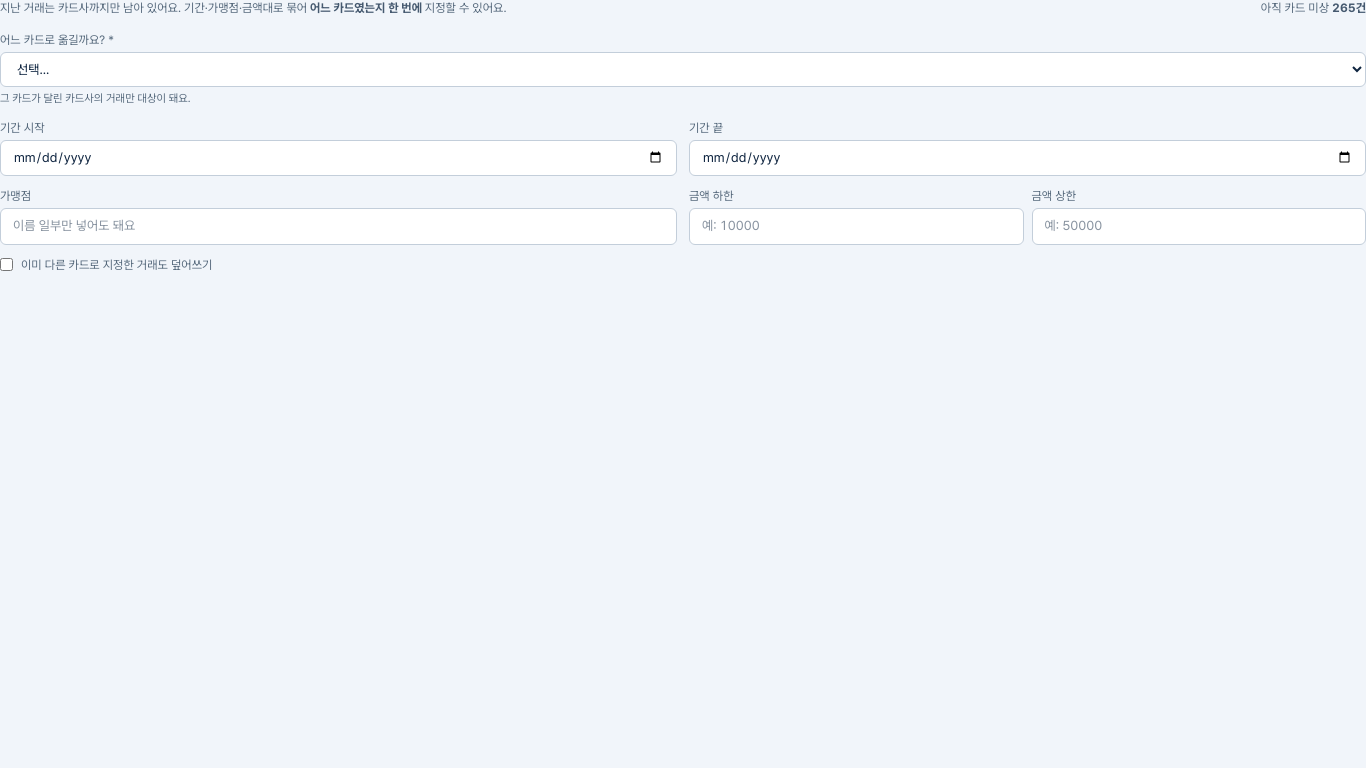
it: E. 확인 없이 실행되지 않는다 › E-3. 확인 창에 건수와 카드 이름이 나온다
The width and height of the screenshot is (1366, 768).
Select "하나 A · 하나카드" in the dropdown labelled "어느 카드로 옮길까요? *" at {"x": 683, "y": 70}, box [0,52,1365,87]
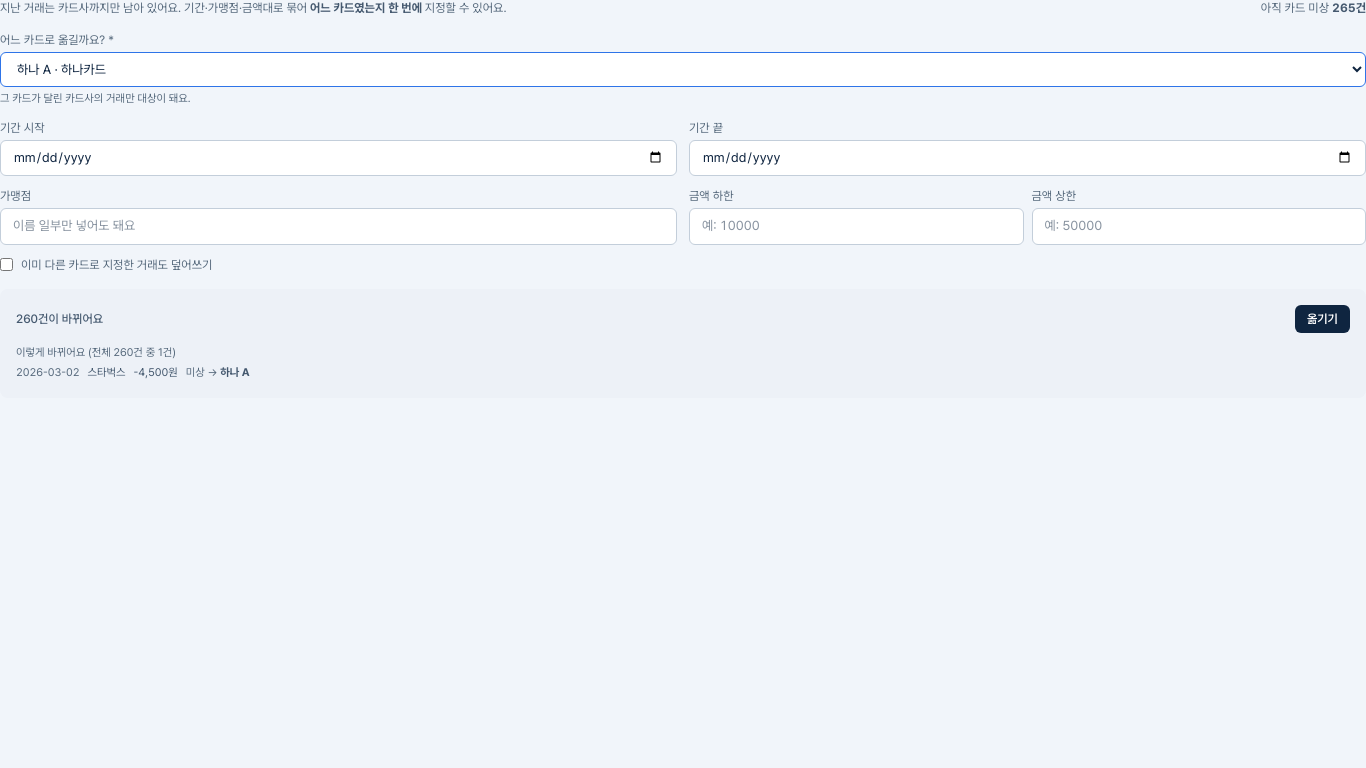
Click the button "옮기기" at {"x": 1322, "y": 319}, box [1295,305,1350,333]
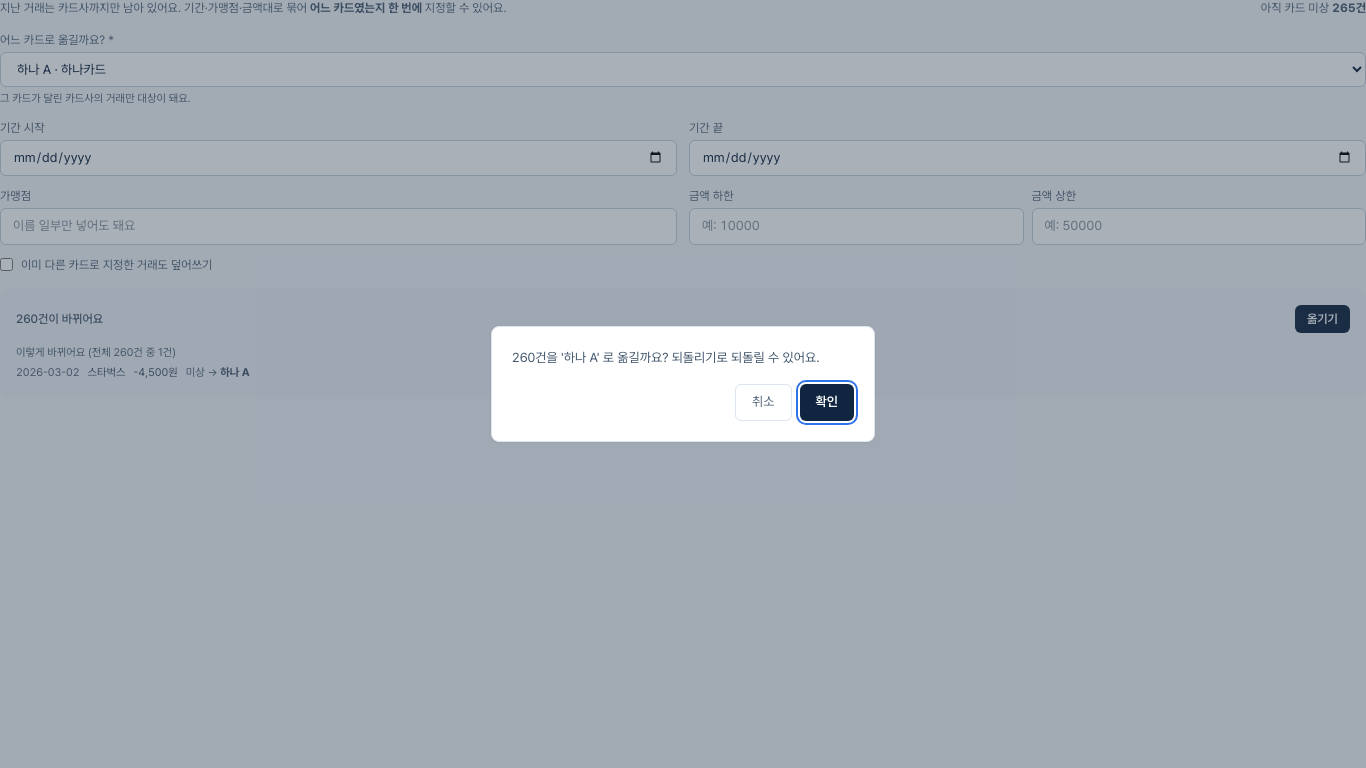
Check: the text "260건을 '하나 A' 로 옮길까요? 되돌리기로 되돌릴 수 있어요." is shown, box [512,347,854,368]
